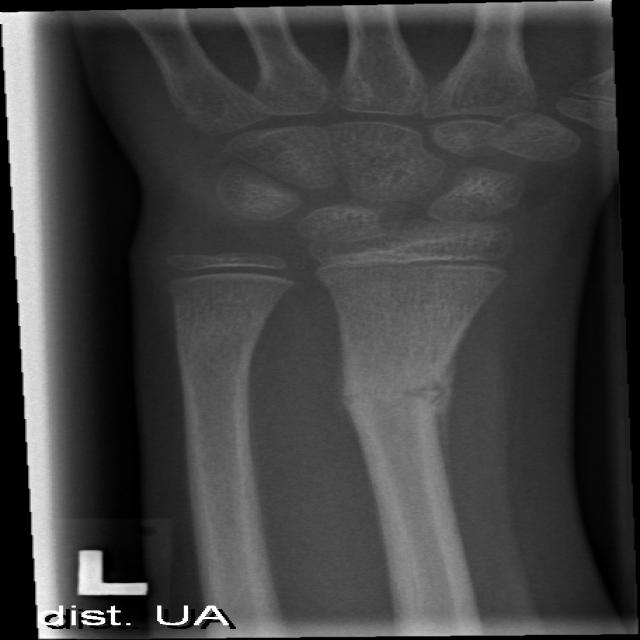radius fracture: (311, 333, 480, 483)
